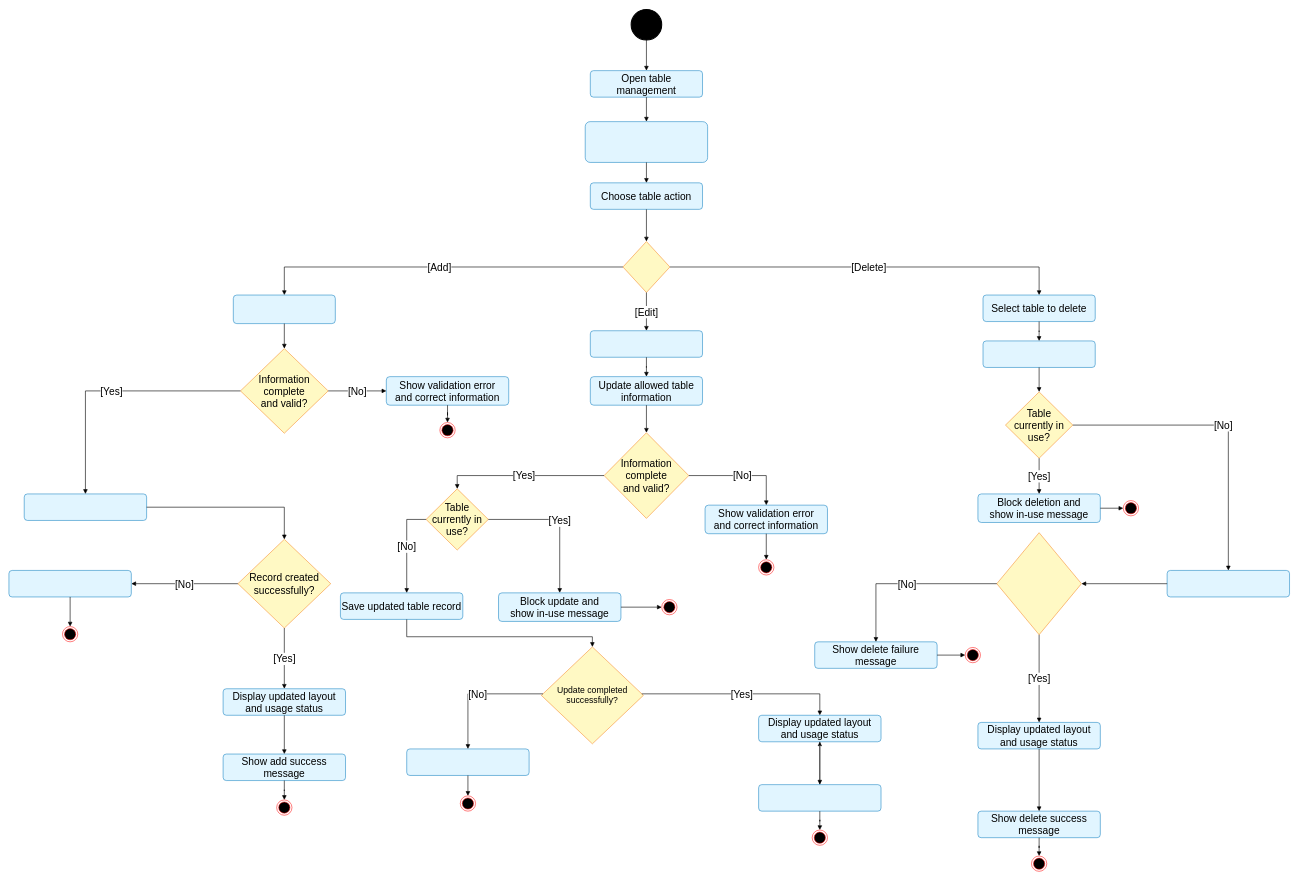
The diagram is 1298 pixels wide and 880 high, and some of its shapes have lost their labels. The box of each missing label's shape, as (x1, y1, x2, y2) in pixels:
Action?: (622, 241, 670, 292)
Confirm deletion request: (983, 340, 1095, 367)
Create new table record: (24, 493, 147, 520)
Delete selected table record: (1167, 570, 1290, 597)
Deletion completed successfully?: (996, 532, 1081, 635)
Enter new table information: (233, 295, 335, 324)
Select table to edit: (590, 330, 703, 357)
Show create failure message: (8, 570, 131, 597)
Show update failure message: (406, 748, 529, 775)
Show update success message: (758, 784, 881, 811)
View current table layout and usage status: (585, 121, 708, 162)
